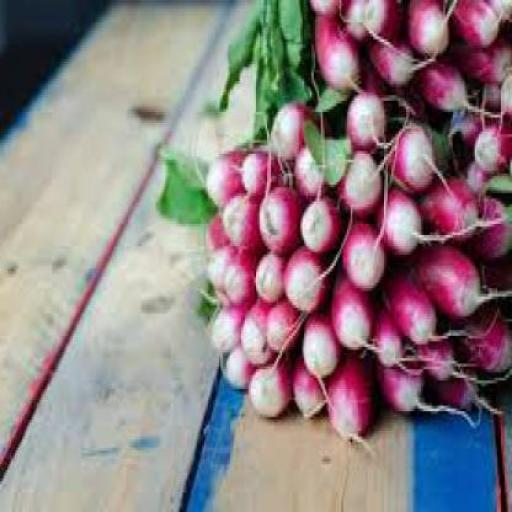biodegradable: (226, 11, 276, 137), (412, 240, 486, 320), (262, 0, 316, 101), (377, 263, 443, 339), (327, 344, 378, 440), (450, 296, 511, 376), (421, 170, 482, 247), (160, 145, 214, 222), (342, 209, 390, 286), (284, 240, 334, 310), (378, 185, 426, 257), (421, 364, 490, 414), (377, 355, 434, 414), (393, 120, 441, 190), (340, 146, 388, 216), (419, 56, 475, 115), (303, 299, 343, 380), (308, 114, 354, 184), (334, 272, 375, 350), (257, 100, 313, 157), (373, 294, 412, 366), (252, 350, 293, 417), (262, 182, 302, 249), (453, 33, 511, 79), (349, 84, 391, 145), (205, 143, 245, 207), (267, 294, 307, 358), (406, 0, 453, 53), (302, 190, 344, 249), (368, 40, 426, 82), (452, 0, 503, 46), (414, 330, 460, 380), (366, 55, 406, 112), (477, 191, 511, 257), (297, 140, 336, 196), (224, 190, 262, 247), (283, 0, 316, 65), (477, 114, 511, 176), (225, 246, 259, 308), (243, 294, 273, 364), (295, 355, 328, 417), (482, 251, 511, 320), (208, 296, 245, 350), (243, 148, 287, 190), (448, 104, 490, 146), (364, 0, 404, 42), (226, 336, 256, 389), (260, 249, 288, 300), (210, 244, 239, 288), (318, 81, 352, 115), (464, 154, 494, 191), (480, 73, 506, 112), (345, 0, 371, 37), (211, 210, 236, 247), (434, 123, 452, 165), (201, 280, 220, 316), (486, 171, 511, 195), (310, 0, 345, 17), (487, 0, 510, 23), (501, 70, 511, 122)
